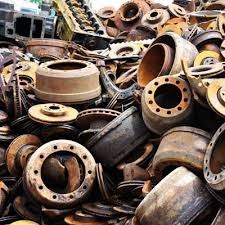metal: (18, 133, 109, 213), (125, 163, 218, 225), (145, 115, 220, 181), (26, 48, 108, 107), (129, 26, 202, 92), (129, 69, 199, 125), (41, 1, 113, 52), (193, 120, 225, 198), (24, 94, 84, 131), (106, 1, 157, 39), (187, 24, 225, 59), (139, 5, 175, 34), (201, 75, 225, 117)
